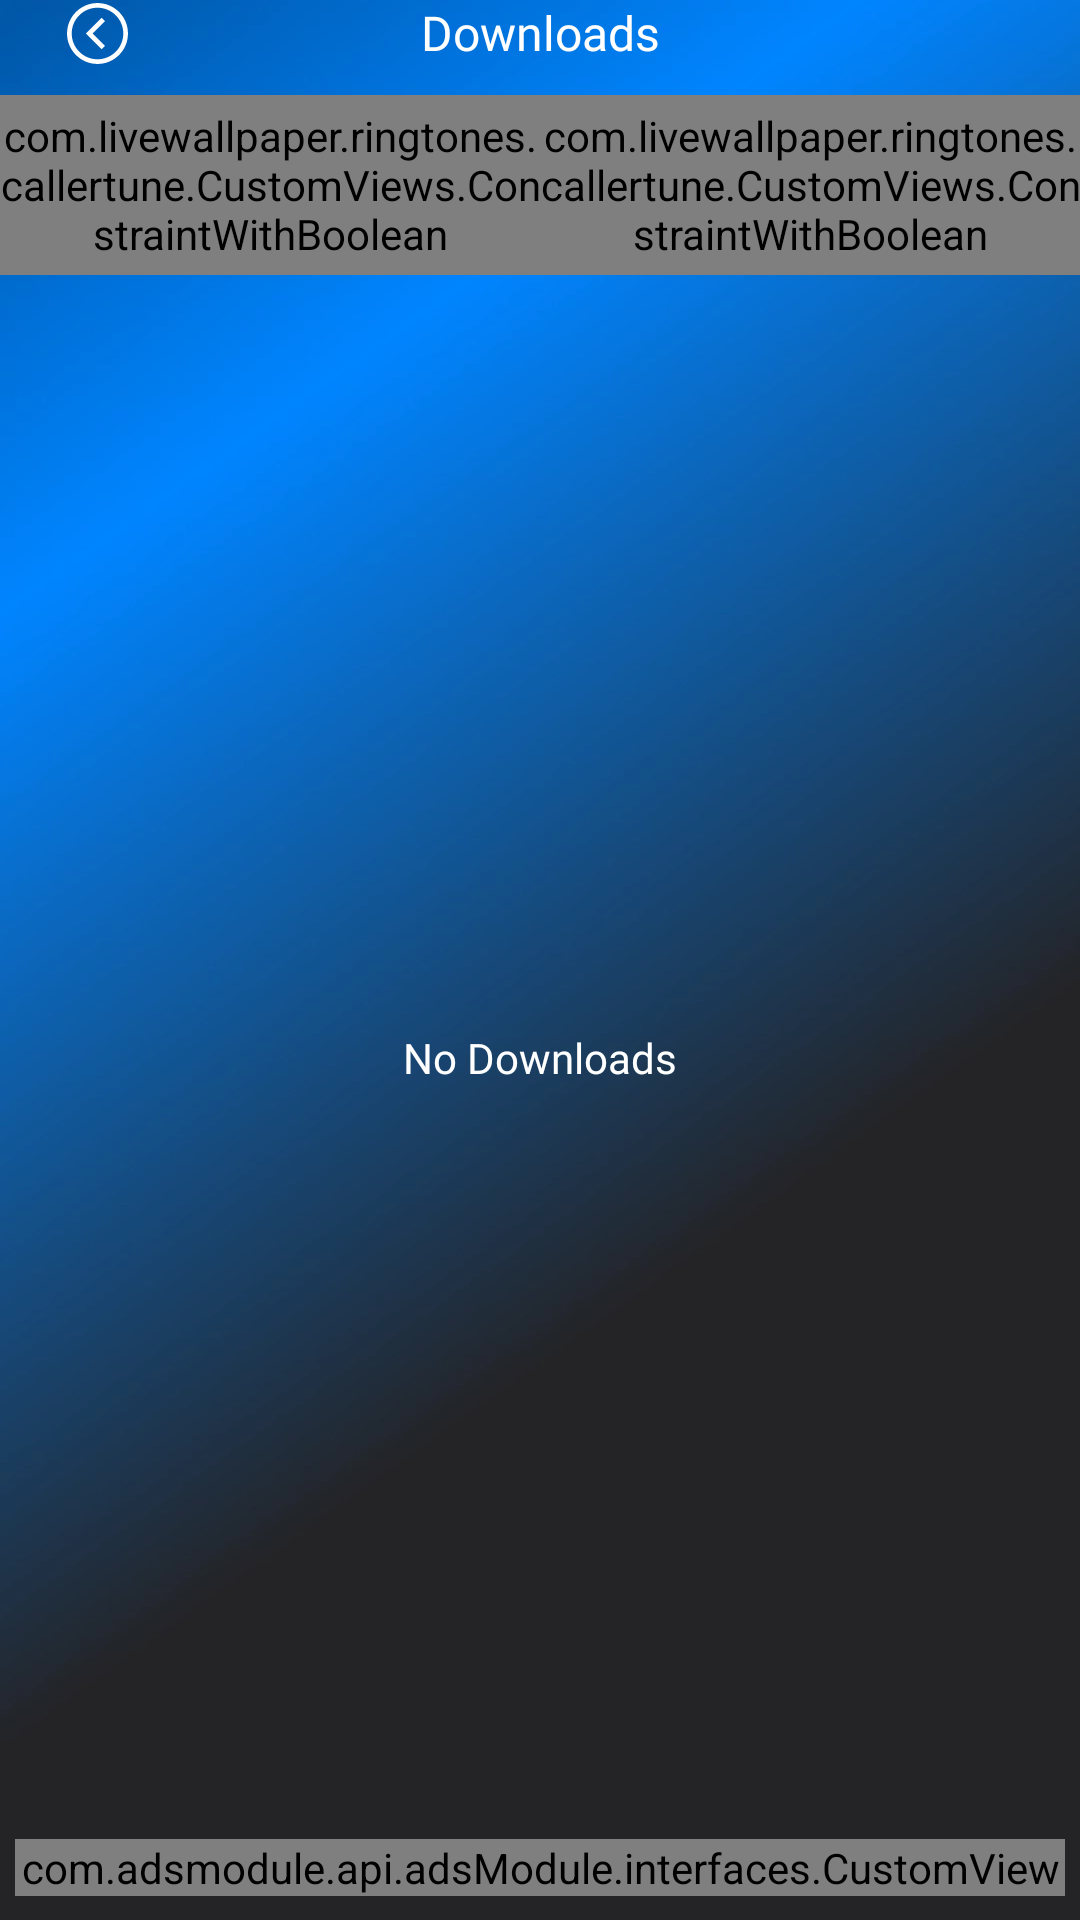

Where icons sit on this 1080x1920 app screen, as rect(x1, y1, x2, y2):
back arrow: rect(67, 3, 128, 64)
